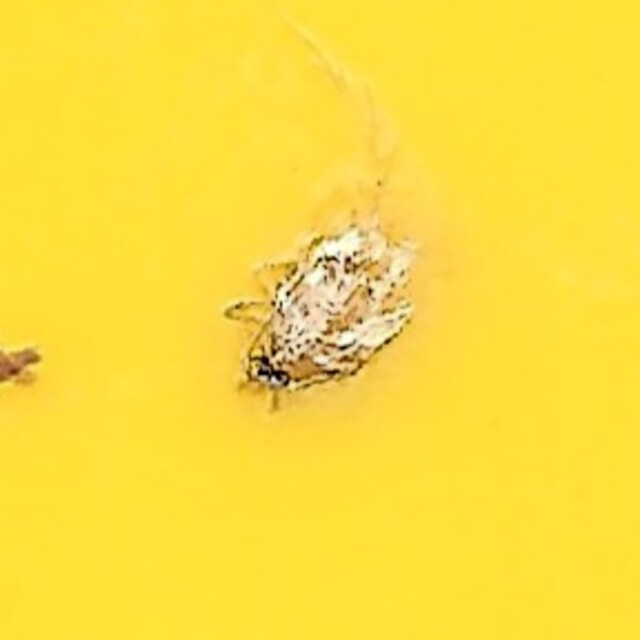Lepidoptera: (222, 221, 418, 419)
